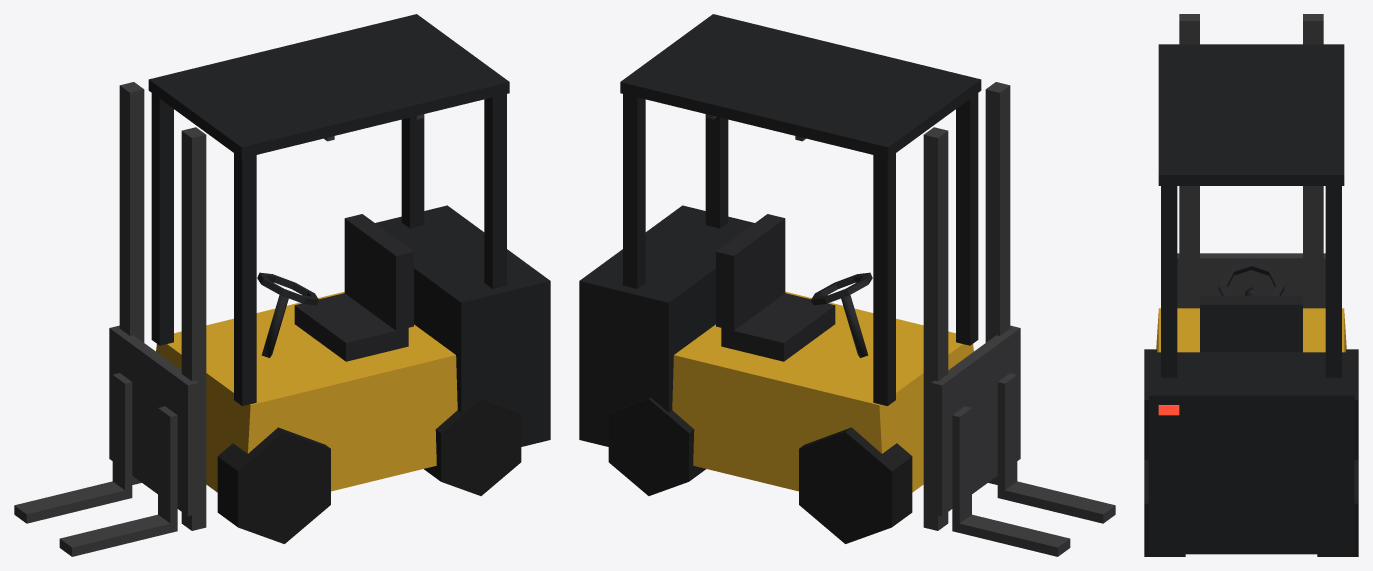
Rendered from forklift.glb.
3 views of the same model, side by side, from view 1: azimuth 30°, elevation 25°; view 2: azimuth 150°, elevation 25°; view 3: azimuth 270°, elevation 25° (orthographic).
Visible parts, largest first — view 1: forklift; view 2: forklift; view 3: forklift.
Part boxes in pixels (bbox=[...]): forklift: bbox=[14, 14, 550, 556]; forklift: bbox=[579, 14, 1115, 556]; forklift: bbox=[1144, 14, 1358, 556].
Bounding box in the file's own units: 2.56 × 2.2 × 1.04.
1 material, 1 textured.
